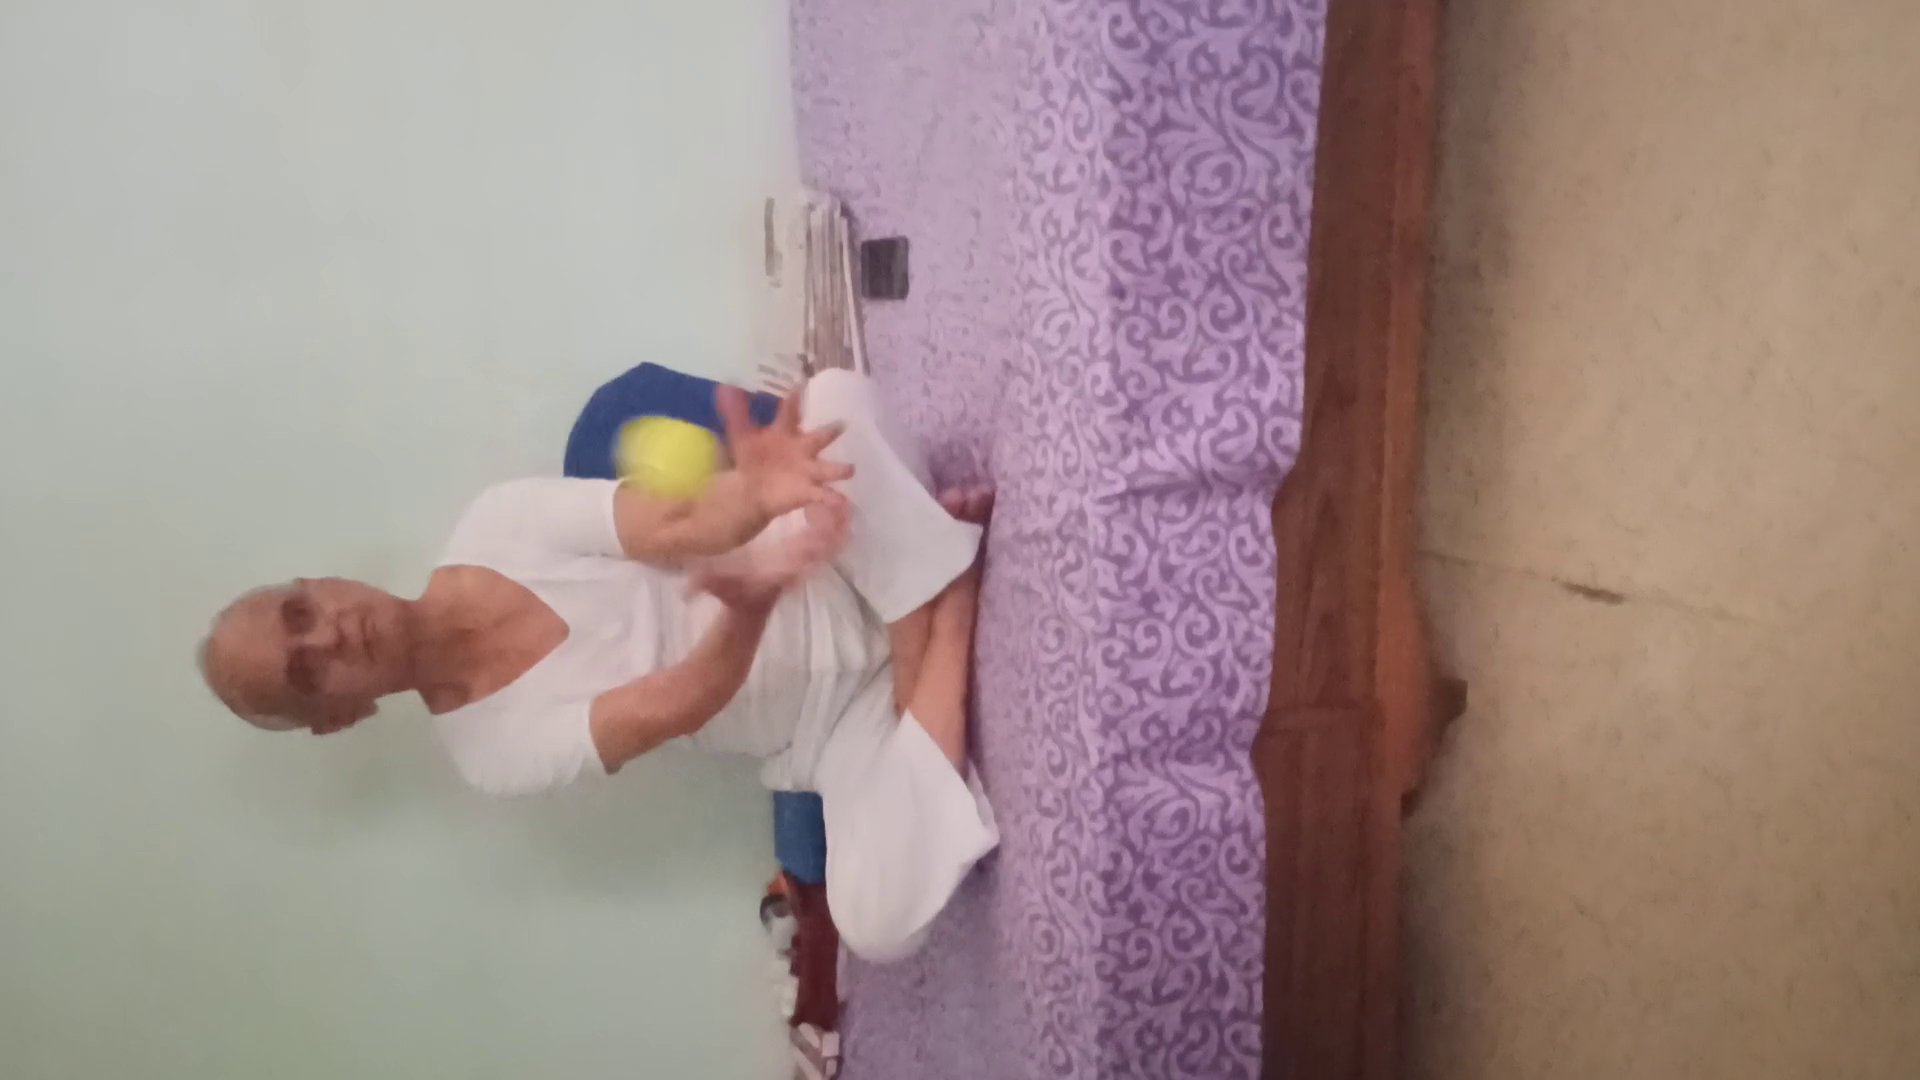Tennis-Ball: (617, 415, 717, 498)
